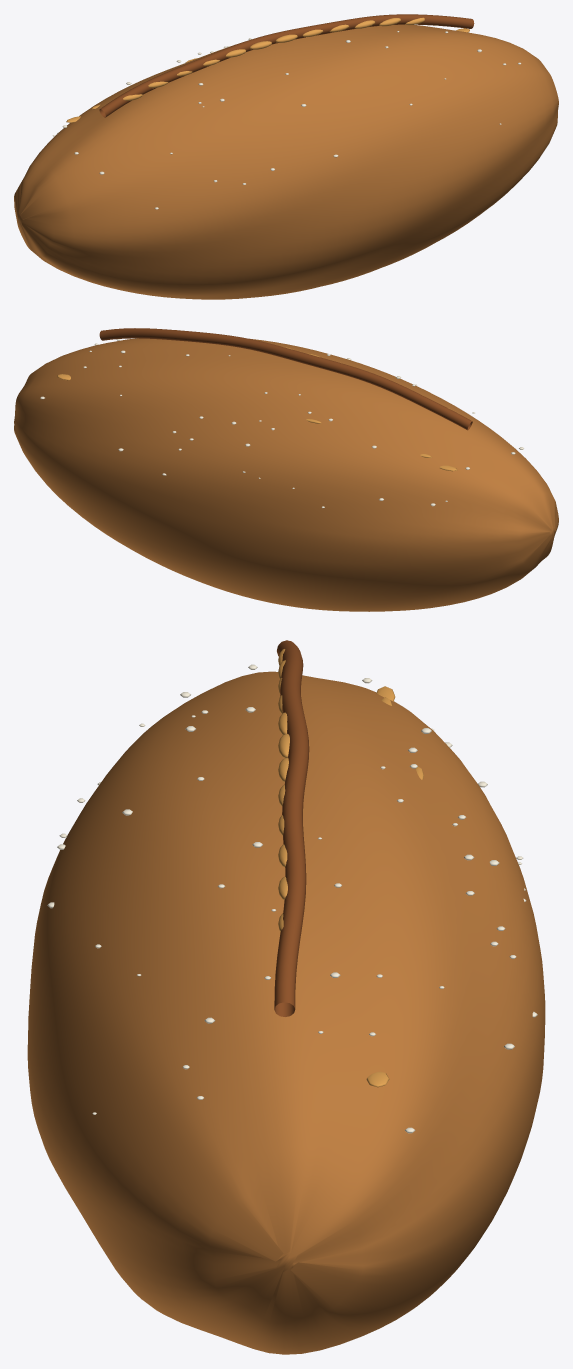
File: Bolillo.glb
The picture shows the model from 3 angles, top to bottom: view 1: azimuth 30°, elevation 25°; view 2: azimuth 150°, elevation 25°; view 3: azimuth 270°, elevation 25°; orthographic projection. The views are drawn at different scales.
Visible parts, largest first — view 1: Bolillo_Mexicano, Corte_Caracteristico; view 2: Bolillo_Mexicano, Corte_Caracteristico; view 3: Bolillo_Mexicano, Corte_Caracteristico.
Part boxes in pixels (bbox=[...]): Bolillo_Mexicano: bbox=[14, 24, 558, 299]; Corte_Caracteristico: bbox=[99, 14, 474, 117]; Bolillo_Mexicano: bbox=[14, 338, 558, 611]; Corte_Caracteristico: bbox=[99, 328, 472, 430]; Bolillo_Mexicano: bbox=[27, 671, 545, 1354]; Corte_Caracteristico: bbox=[274, 640, 309, 1016].
Size of the model in its own units: 1.65 by 0.72 by 0.6946.
